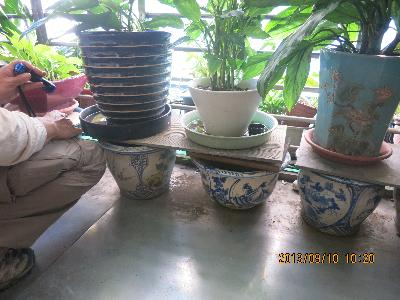bowl: (293, 169, 387, 238), (188, 159, 287, 212), (97, 140, 178, 199)
plate: (180, 108, 277, 149), (78, 100, 172, 141), (302, 126, 394, 166)
